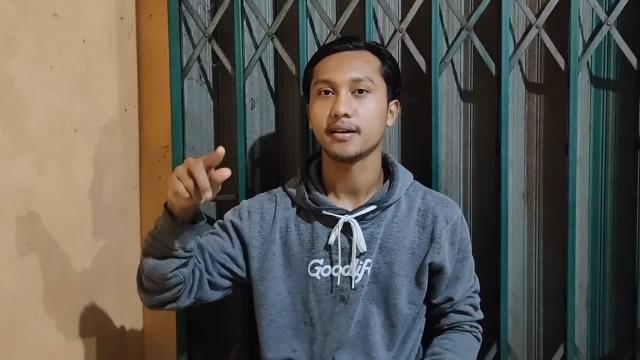Q: (166, 142, 238, 212)
